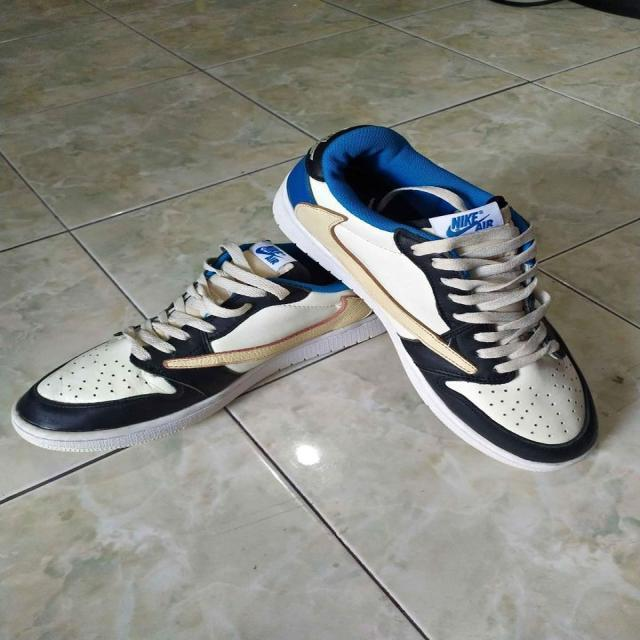nike fake jordan 1: (276, 122, 632, 476), (11, 236, 478, 457)
